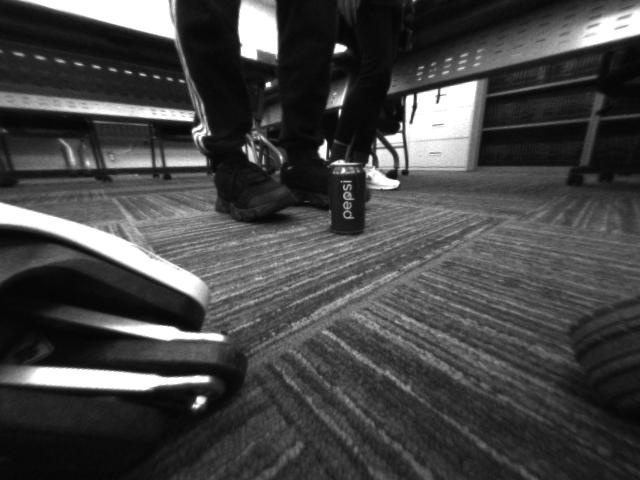can: (323, 158, 368, 238)
